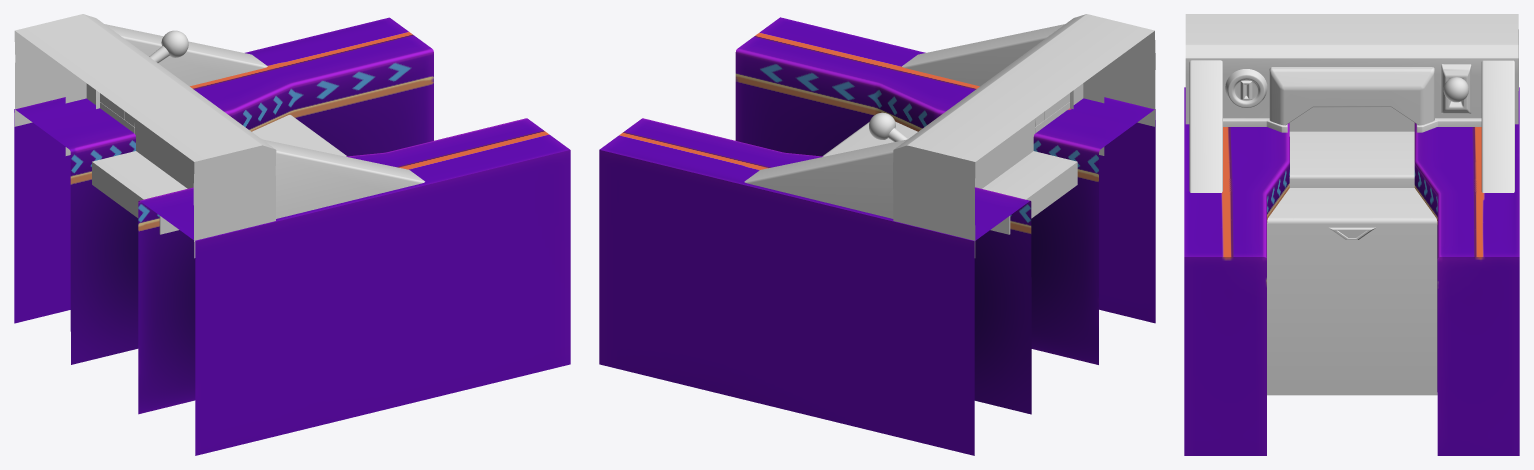
The model's file is SM_Coinpusher_001.fbx.
3 renders of one model, left to right at view 1: azimuth 30°, elevation 25°; view 2: azimuth 150°, elevation 25°; view 3: azimuth 270°, elevation 25°, orthographic. The views are drawn at different scales.
Parts seen in each view (by area): view 1: SM_Coinpusher_009, SM_Coinpusher_012, SM_Coinpusher_003, SM_Coinpusher_006, SM_Coinpusher_004, SM_Coinpusher_008, SM_Coinpusher_002; view 2: SM_Coinpusher_009, SM_Coinpusher_012, SM_Coinpusher_003, SM_Coinpusher_006, SM_Coinpusher_004, SM_Coinpusher_008, SM_Coinpusher_002; view 3: SM_Coinpusher_009, SM_Coinpusher_008, SM_Coinpusher_012, SM_Coinpusher_003, SM_Coinpusher_011, SM_Coinpusher_006, SM_Coinpusher_004, SM_Coinpusher_010, SM_Coinpusher_001, SM_Coinpusher_007, SM_Coinpusher_002.
Boxes of the visible parts, box(x1,y1,x2,y2) form: SM_Coinpusher_009: box(14, 17, 570, 455); SM_Coinpusher_012: box(14, 14, 276, 258); SM_Coinpusher_003: box(96, 24, 424, 218); SM_Coinpusher_006: box(92, 151, 187, 234); SM_Coinpusher_004: box(65, 68, 194, 188); SM_Coinpusher_008: box(252, 115, 346, 156); SM_Coinpusher_002: box(149, 30, 188, 62); SM_Coinpusher_009: box(599, 17, 1155, 455); SM_Coinpusher_012: box(893, 14, 1155, 257); SM_Coinpusher_003: box(744, 24, 1073, 218); SM_Coinpusher_006: box(982, 151, 1077, 234); SM_Coinpusher_004: box(975, 68, 1104, 188); SM_Coinpusher_008: box(822, 121, 917, 156); SM_Coinpusher_002: box(869, 112, 907, 141); SM_Coinpusher_009: box(1184, 87, 1519, 455); SM_Coinpusher_008: box(1267, 188, 1437, 395); SM_Coinpusher_012: box(1185, 14, 1518, 124); SM_Coinpusher_003: box(1189, 60, 1514, 192); SM_Coinpusher_011: box(1269, 67, 1434, 125); SM_Coinpusher_006: box(1289, 131, 1414, 187); SM_Coinpusher_004: box(1289, 107, 1414, 131); SM_Coinpusher_010: box(1223, 118, 1481, 132); SM_Coinpusher_001: box(1225, 69, 1267, 107); SM_Coinpusher_007: box(1441, 64, 1471, 113); SM_Coinpusher_002: box(1443, 77, 1468, 102).
Size of the model in its own units: 532 by 402 by 443.
